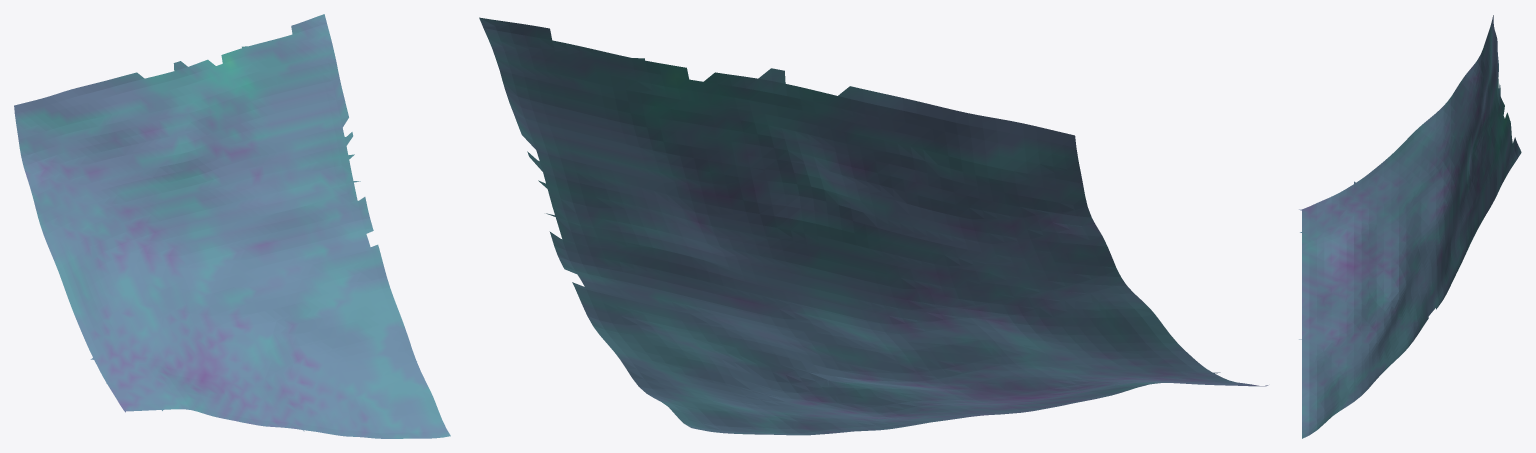
The model's file is crop1045_gap.glb.
3 views of the same model, side by side, from view 1: azimuth 30°, elevation 25°; view 2: azimuth 150°, elevation 25°; view 3: azimuth 270°, elevation 25° (orthographic). The views are drawn at different scales.
Parts seen in each view (by area): view 1: world; view 2: world; view 3: world.
Boxes of the visible parts, <box> form: world: <box>14,14,450,438</box>; world: <box>479,17,1268,435</box>; world: <box>1299,15,1521,438</box>.
Size of the model in its own units: 714 by 679 by 479.
